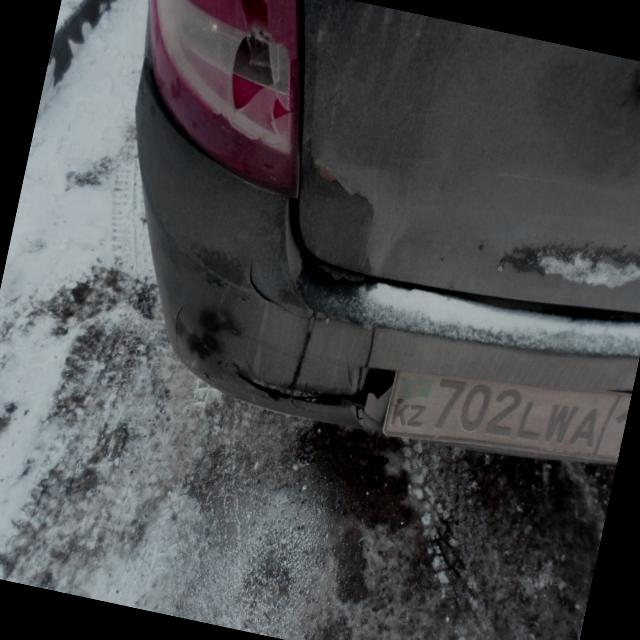Dechirure: (221, 329, 397, 424), (291, 142, 385, 230), (228, 253, 314, 332)
